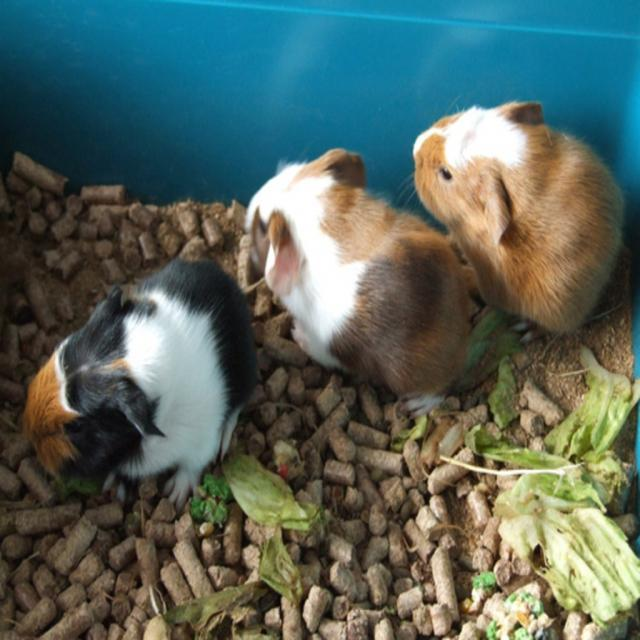rat: (24, 255, 260, 510), (242, 143, 470, 396), (397, 101, 628, 339)
